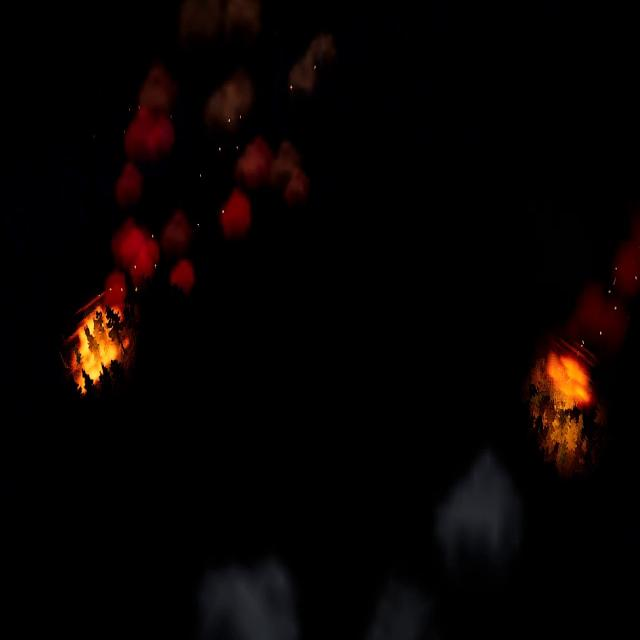fire: (68, 307, 126, 391), (538, 343, 593, 416)
smoke: (111, 1, 328, 316), (433, 446, 524, 575), (566, 204, 640, 350), (194, 556, 306, 640)
